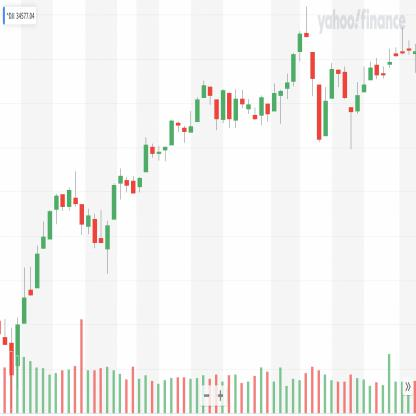Bearish: Shooting Star: (297, 1, 316, 101)
Bullish: Hammer: (341, 62, 361, 155)
